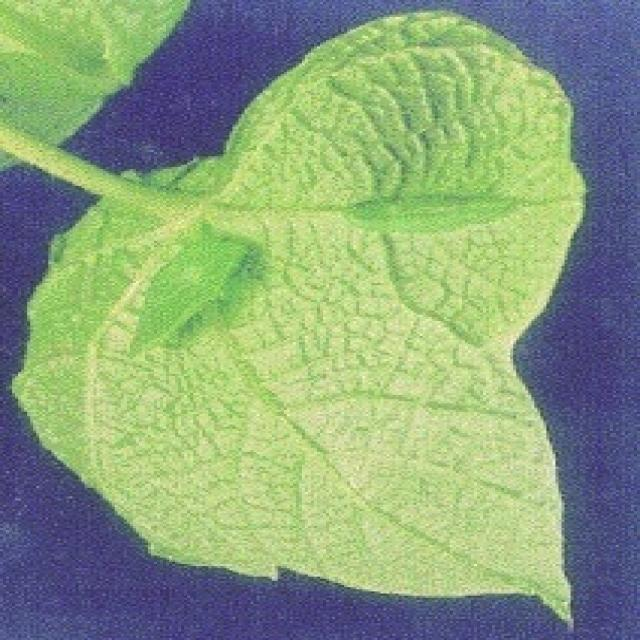Leaf Curl Virus: (131, 122, 489, 544)
